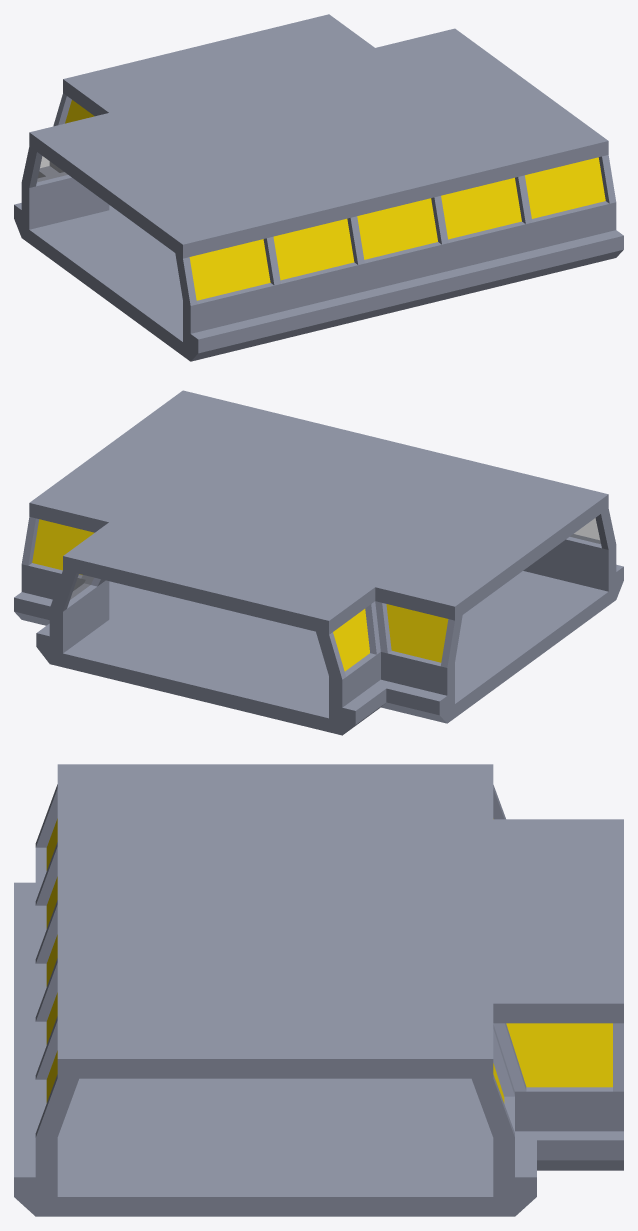
Rendered from building_tunnel-fork_v01.gltf.
The picture shows the model from 3 angles, top to bottom: view 1: azimuth 30°, elevation 25°; view 2: azimuth 150°, elevation 25°; view 3: azimuth 270°, elevation 25°; orthographic projection. The views are drawn at different scales.
Visible parts, largest first — view 1: massing 2, instance_0.007, instance_0.010, instance_0.006, instance_0.008, instance_0.009; view 2: massing 2, instance_0.005, instance_0.002, instance_0.003; view 3: massing 2, instance_0.004.
Boxes of the visible parts, bbox=[...] form: massing 2: bbox=[14, 14, 623, 361]; instance_0.007: bbox=[441, 177, 521, 239]; instance_0.010: bbox=[273, 218, 354, 280]; instance_0.006: bbox=[189, 239, 270, 300]; instance_0.008: bbox=[357, 198, 437, 259]; instance_0.009: bbox=[525, 157, 605, 218]; massing 2: bbox=[14, 390, 623, 735]; instance_0.005: bbox=[386, 604, 448, 662]; instance_0.002: bbox=[32, 519, 94, 575]; instance_0.003: bbox=[333, 609, 369, 671]; massing 2: bbox=[14, 764, 623, 1216]; instance_0.004: bbox=[506, 1023, 612, 1087].
Size of what is drawn, in the model's own units: 16 by 4 by 14.
